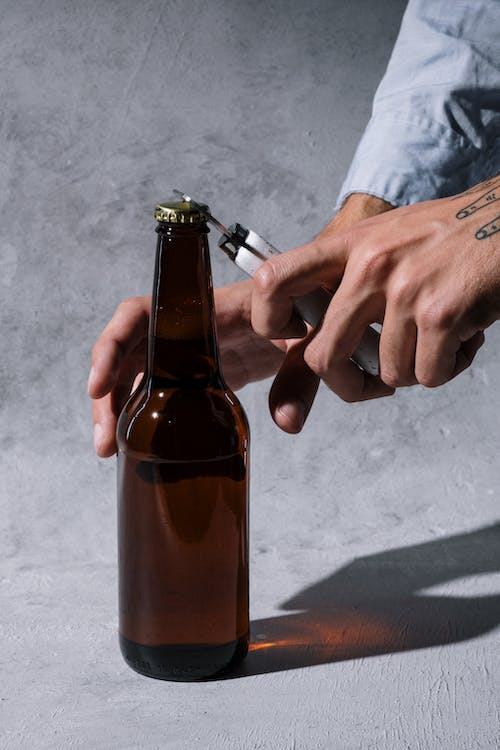alcohol: (113, 198, 253, 683)
